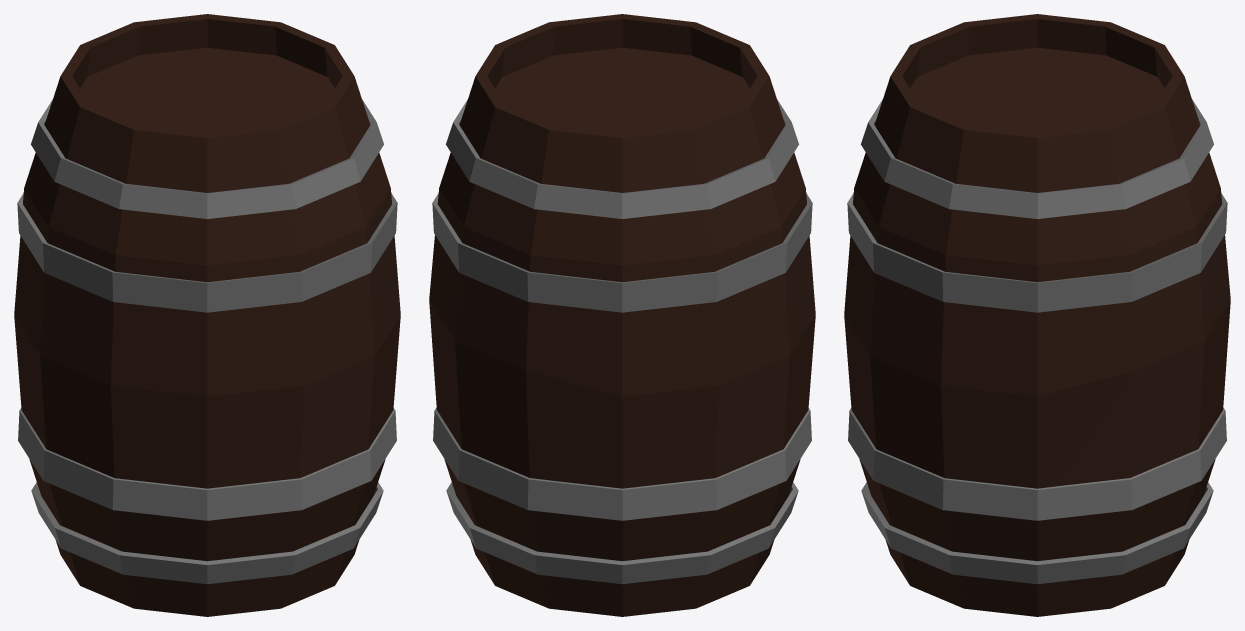
The model's file is SM_barell_02.fbx.
3 views of the same model, side by side, from view 1: azimuth 30°, elevation 25°; view 2: azimuth 150°, elevation 25°; view 3: azimuth 270°, elevation 25° (orthographic).
Parts seen in each view (by area): view 1: Cylinder042; view 2: Cylinder042; view 3: Cylinder042.
Part boxes in pixels (left/top/right/bottom): Cylinder042: left=14, top=14, right=400, bottom=616; Cylinder042: left=429, top=14, right=815, bottom=616; Cylinder042: left=844, top=14, right=1230, bottom=616.
Bounding box in the file's own units: 34.62 × 47.3 × 34.62.
